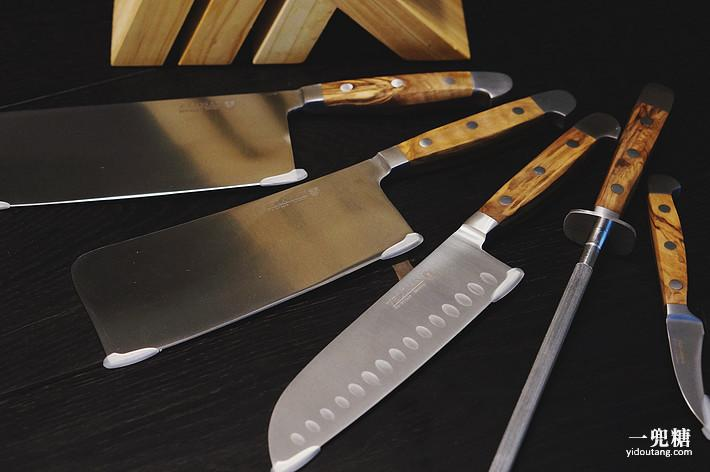knife: (1, 66, 710, 467)
